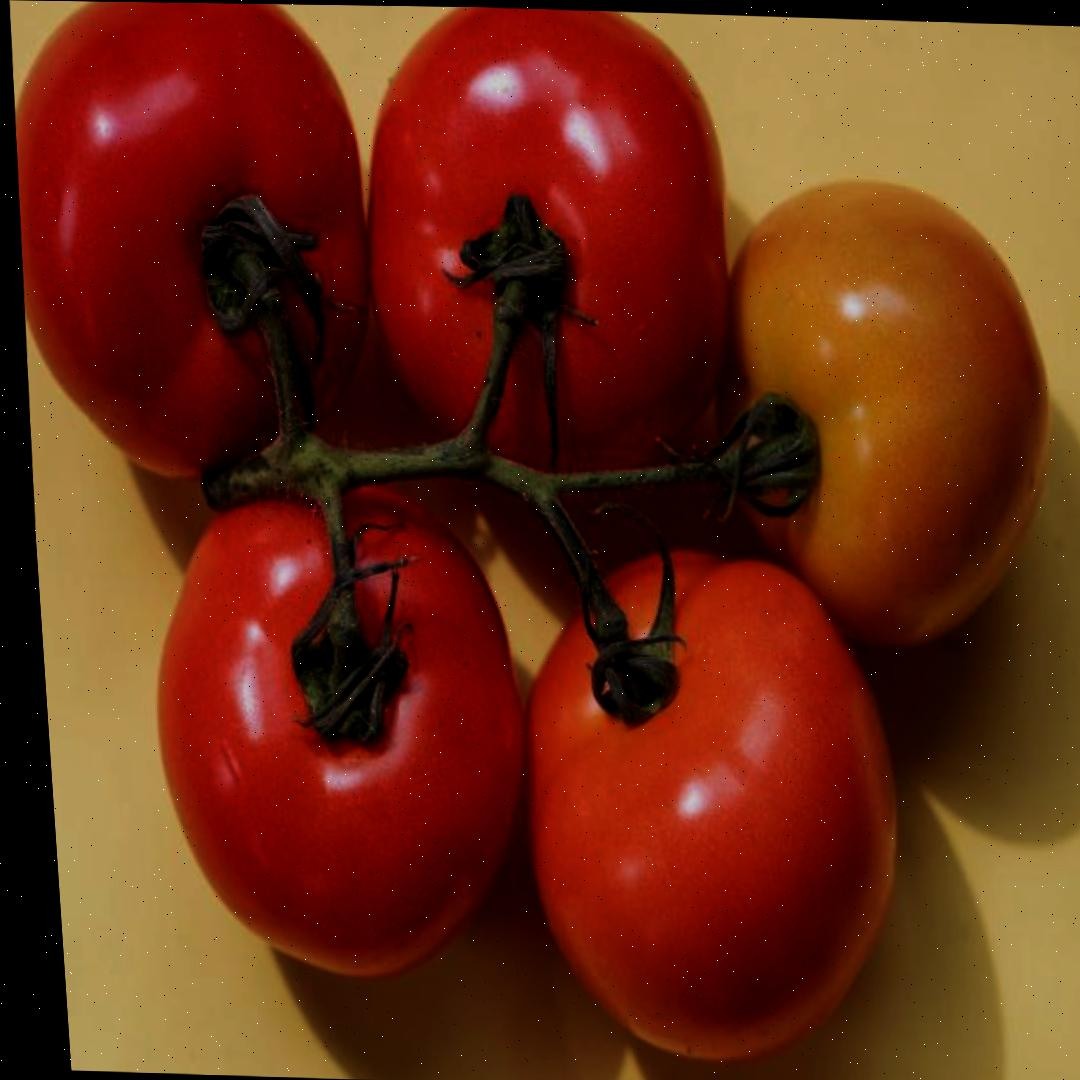matang: (507, 544, 919, 1069), (136, 459, 544, 982), (344, 5, 748, 508), (1, 0, 389, 487)
setengah_matang: (695, 176, 1066, 651)
